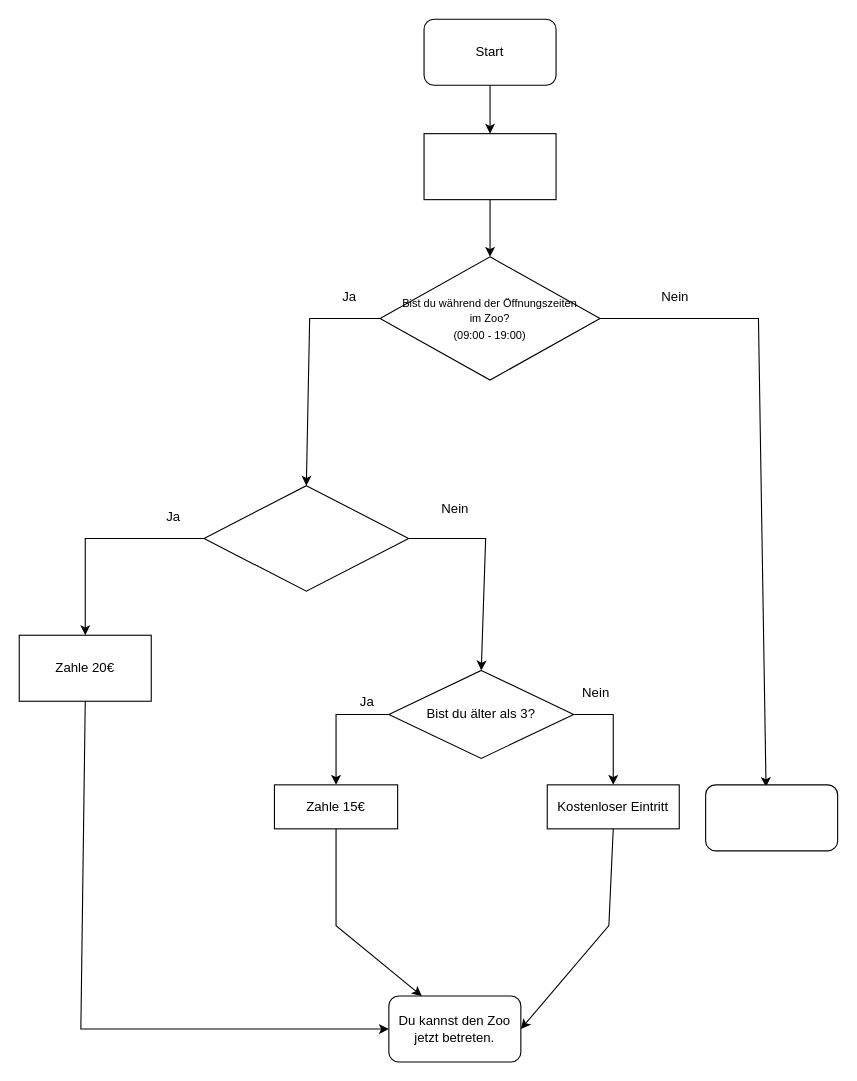
Image size: 857x1081. Some labels were removed from this diagram. Each missing label, with the box of its shape:
Besucher steht am Eingang: (423, 133, 556, 200)
Bist du Erwachsen? (>=18): (203, 485, 409, 591)
Ende: (705, 784, 838, 851)
